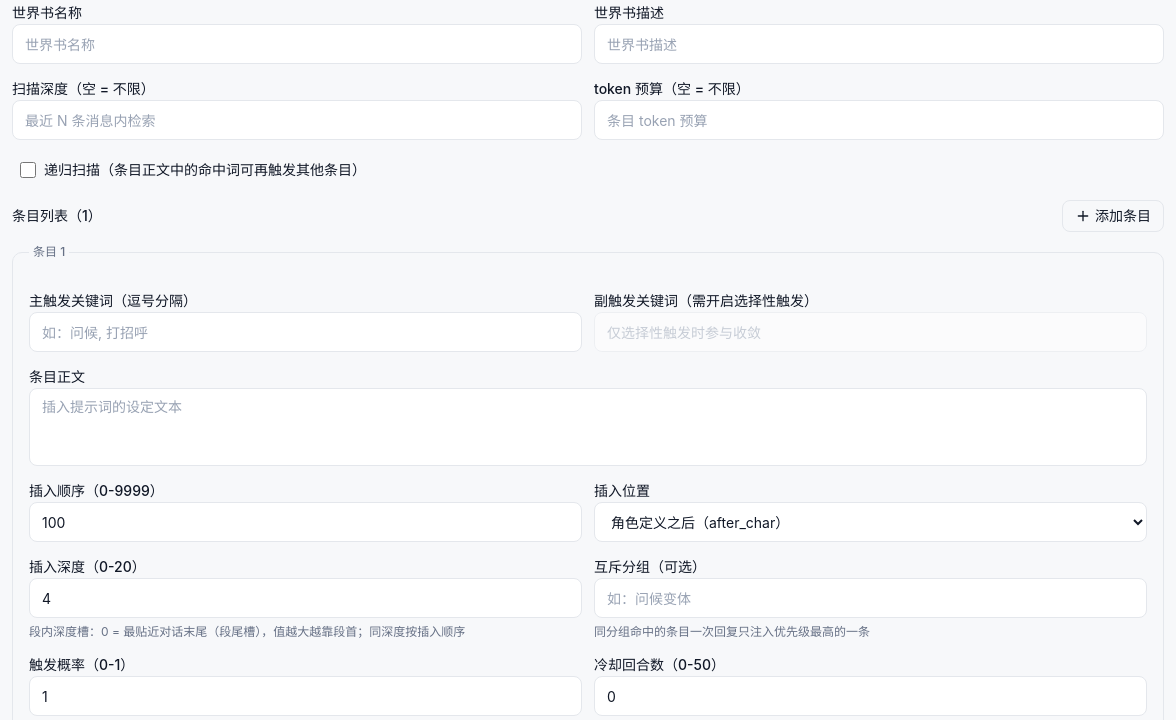
it: CharacterBookEditor › 添加条目（一条 → 两条）
Click the button "添加条目" at {"x": 1113, "y": 216}, box x1=1062 y1=200 x2=1164 y2=232
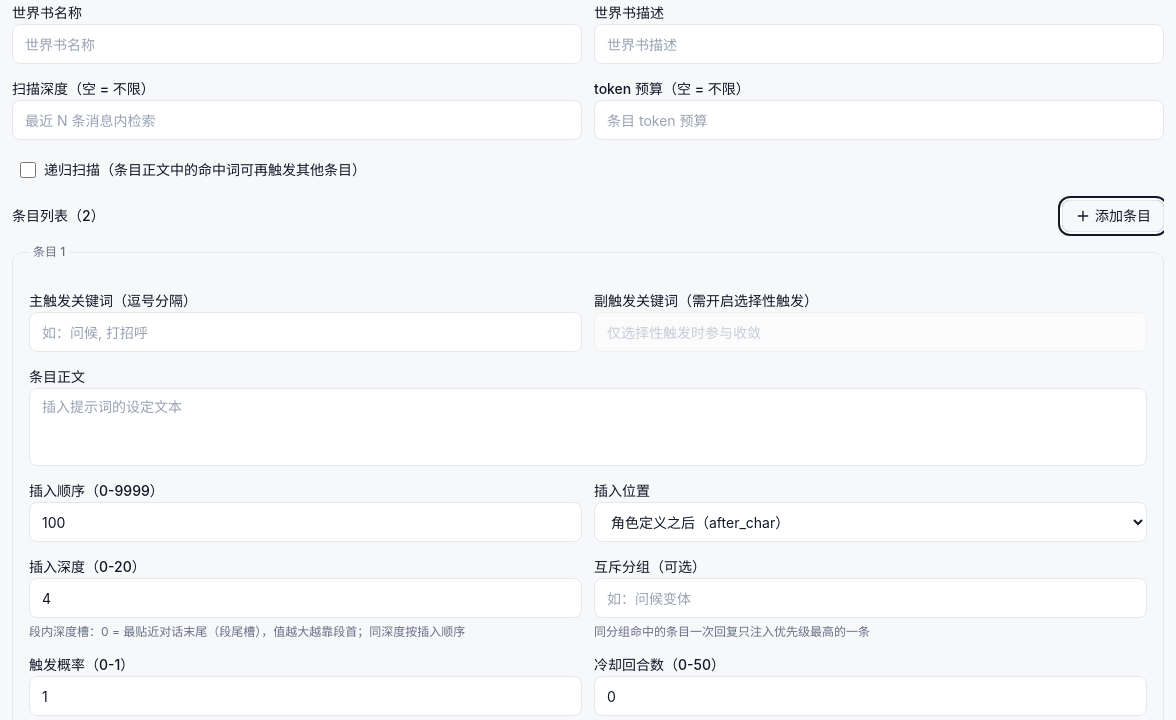
Check: the text "条目列表（2）" is shown, box x1=12 y1=206 x2=105 y2=226
